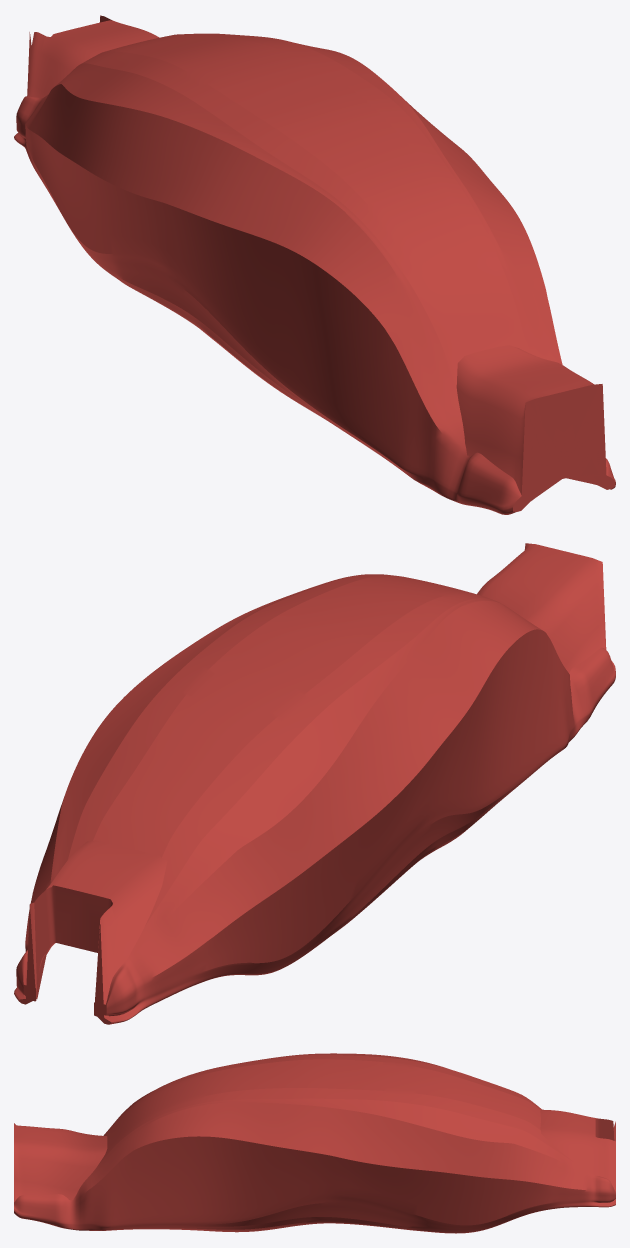
The model's file is sports_tourer_3.glb.
3 renders of one model, top to bottom at view 1: azimuth 30°, elevation 25°; view 2: azimuth 150°, elevation 25°; view 3: azimuth 270°, elevation 25°, orthographic. The views are drawn at different scales.
Visible parts, largest first — view 1: lod0; view 2: lod0; view 3: lod0.
Part boxes in pixels (<box>): lod0: <box>14,15,615,514</box>; lod0: <box>14,543,615,1024</box>; lod0: <box>14,1053,615,1233</box>.
Size of what is drawn, in the model's own units: 0.4179 by 0.3269 by 1.29.
